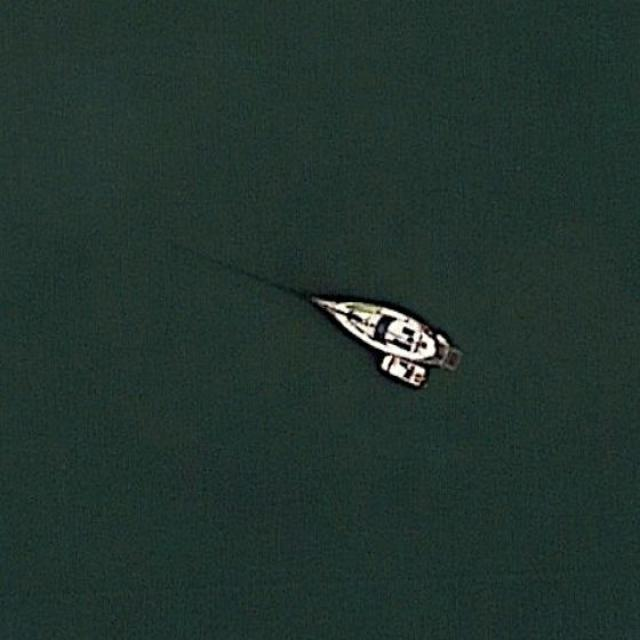boat: (296, 286, 451, 388)
